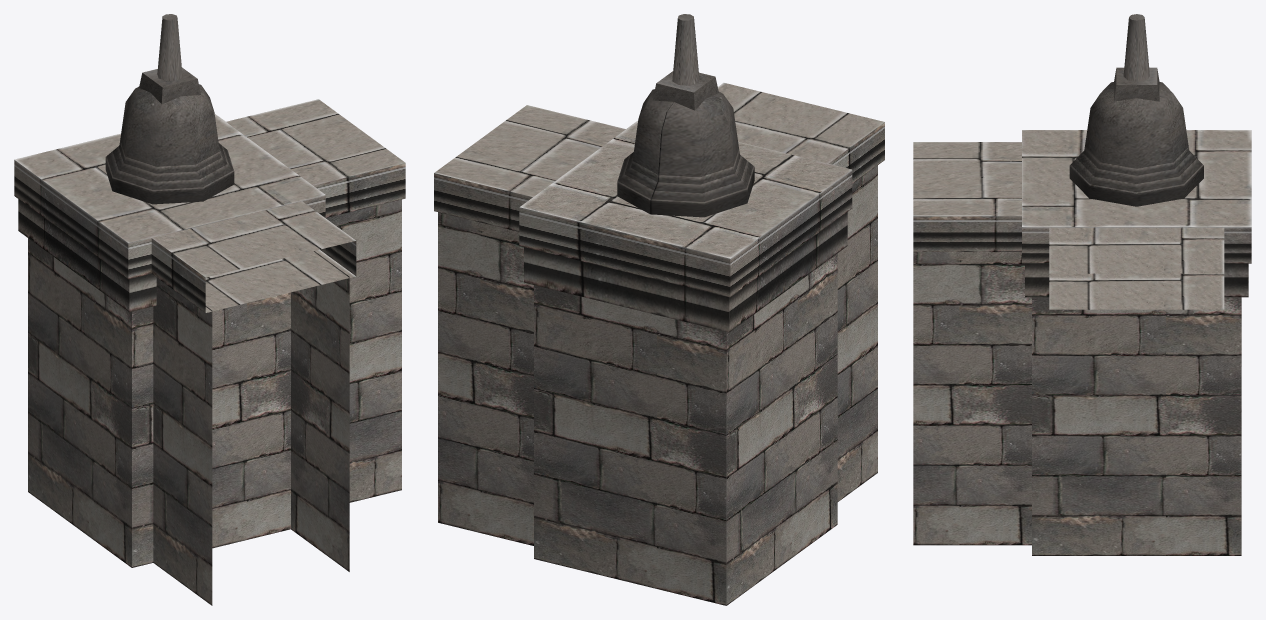
File: Modul_G.FBX
3 renders of one model, left to right at view 1: azimuth 30°, elevation 25°; view 2: azimuth 150°, elevation 25°; view 3: azimuth 270°, elevation 25°, orthographic. The views are drawn at different scales.
Visible parts, largest first — view 1: Modul_G; view 2: Modul_G; view 3: Modul_G.
Part boxes in pixels (x1,y1,x2,y2): Modul_G: (14,14,405,605); Modul_G: (434,14,884,605); Modul_G: (913,14,1251,555).
Size of the model in its own units: 1.27 by 2.04 by 1.27.
